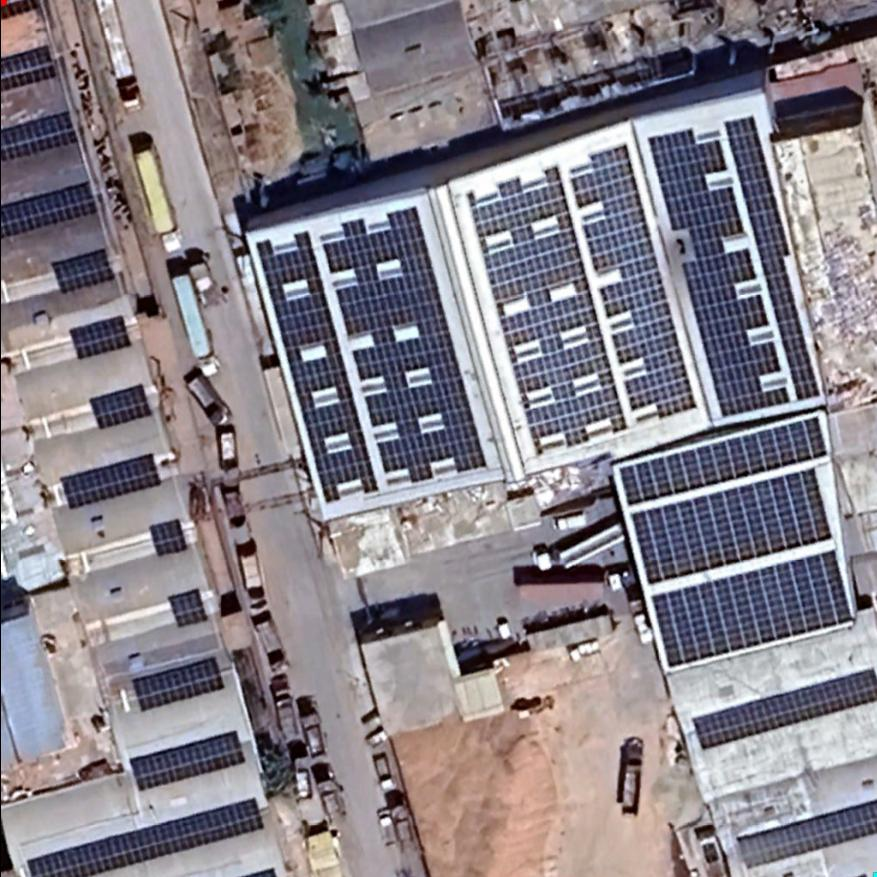Solarpanel: (458, 139, 700, 463), (250, 200, 493, 510), (643, 113, 826, 423), (646, 542, 862, 675), (625, 463, 837, 589), (18, 792, 274, 876), (617, 412, 833, 510), (685, 664, 875, 757), (730, 792, 875, 876), (122, 725, 252, 797), (0, 174, 105, 247), (55, 450, 166, 514), (127, 651, 232, 716), (0, 107, 85, 166), (82, 378, 160, 434), (50, 243, 122, 302), (63, 310, 134, 364), (0, 39, 64, 97), (165, 583, 212, 632), (147, 514, 193, 560)
